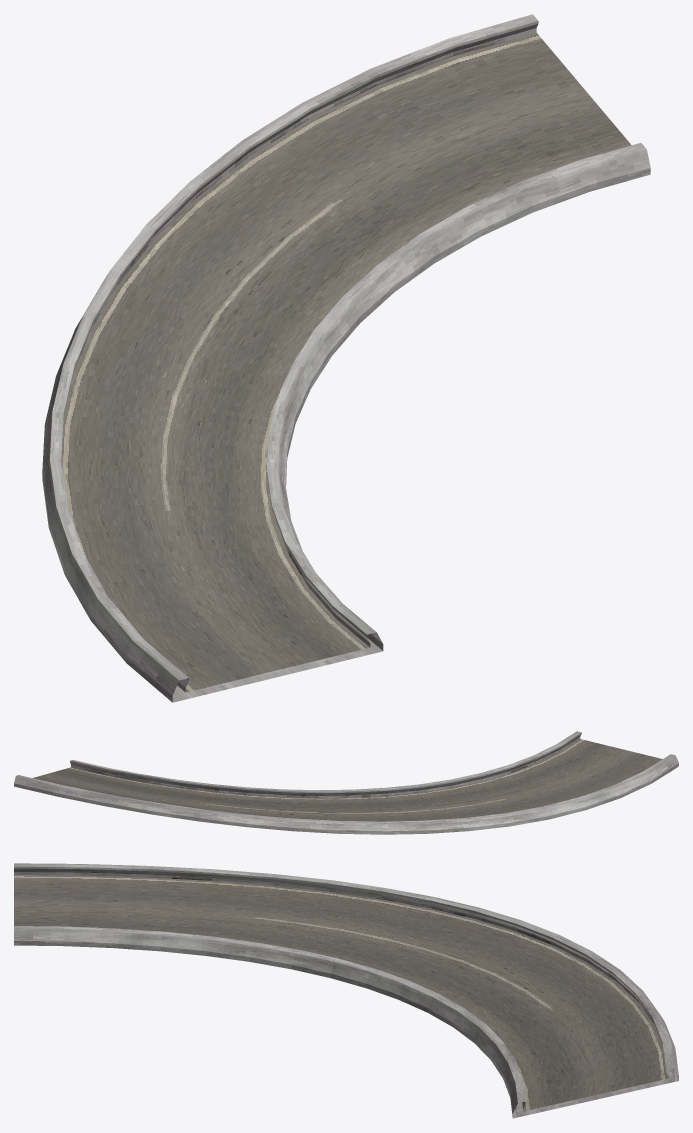
Rendered from turn-right4x4.glb.
3 views of the same model, one above another, from view 1: azimuth 30°, elevation 25°; view 2: azimuth 150°, elevation 25°; view 3: azimuth 270°, elevation 25° (orthographic). The views are drawn at different scales.
Parts seen in each view (by area): view 1: road-Turn-Flat-HalfBankedRight-Up1-Right-Size4; view 2: road-Turn-Flat-HalfBankedRight-Up1-Right-Size4; view 3: road-Turn-Flat-HalfBankedRight-Up1-Right-Size4.
Part boxes in pixels (x1,y1,x2,y2): road-Turn-Flat-HalfBankedRight-Up1-Right-Size4: (42,14,650,702); road-Turn-Flat-HalfBankedRight-Up1-Right-Size4: (14,731,678,834); road-Turn-Flat-HalfBankedRight-Up1-Right-Size4: (14,863,678,1118).
Bounding box in the file's own units: 4 × 0.5859 × 4.
2 materials, 2 textured.
